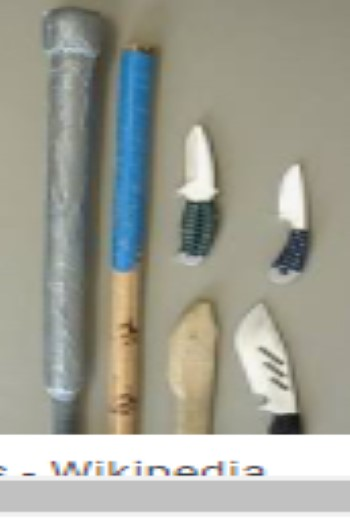baston_e: (104, 60, 155, 429)
baston_v: (116, 32, 173, 73), (103, 417, 141, 445)
